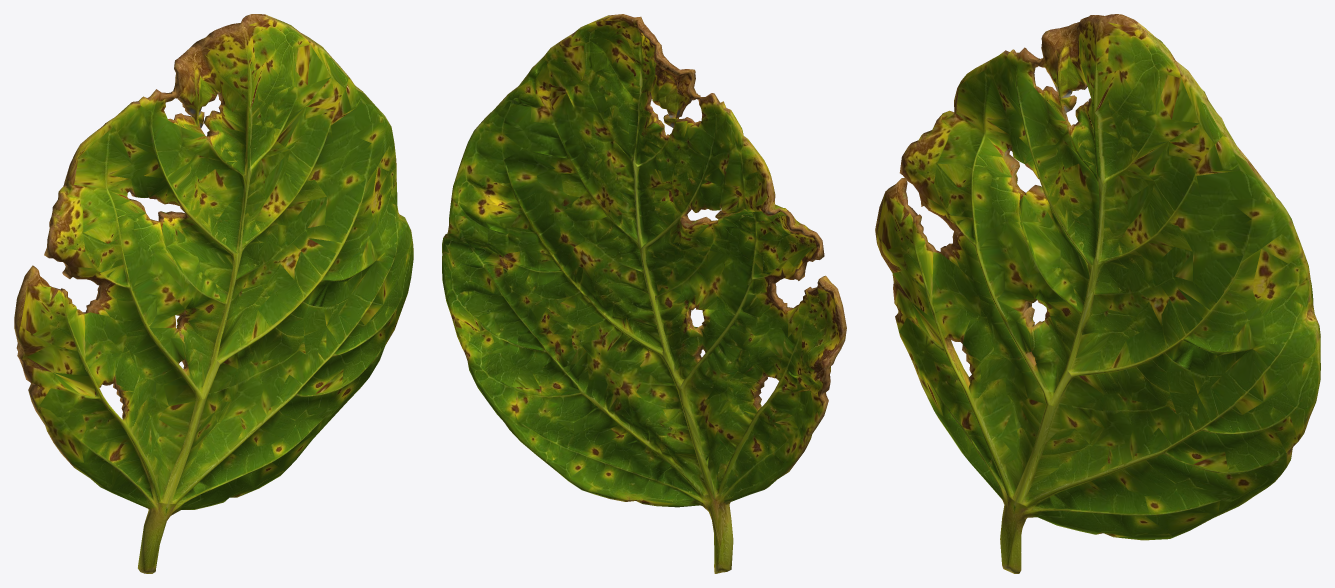
Rendered from soybean_bacterial_blight.glb.
3 views of the same model, side by side, from view 1: azimuth 30°, elevation 25°; view 2: azimuth 150°, elevation 25°; view 3: azimuth 330°, elevation 25° (orthographic). The views are drawn at different scales.
Parts seen in each view (by area): view 1: soybean_bacterial_blight; view 2: soybean_bacterial_blight; view 3: soybean_bacterial_blight.
Part boxes in pixels (<box>): soybean_bacterial_blight: <box>14,14,413,573</box>; soybean_bacterial_blight: <box>442,14,846,573</box>; soybean_bacterial_blight: <box>875,14,1320,573</box>.
Size of the model in its own units: 0.7833 by 0.9996 by 0.1087.
1 material, 1 textured.
